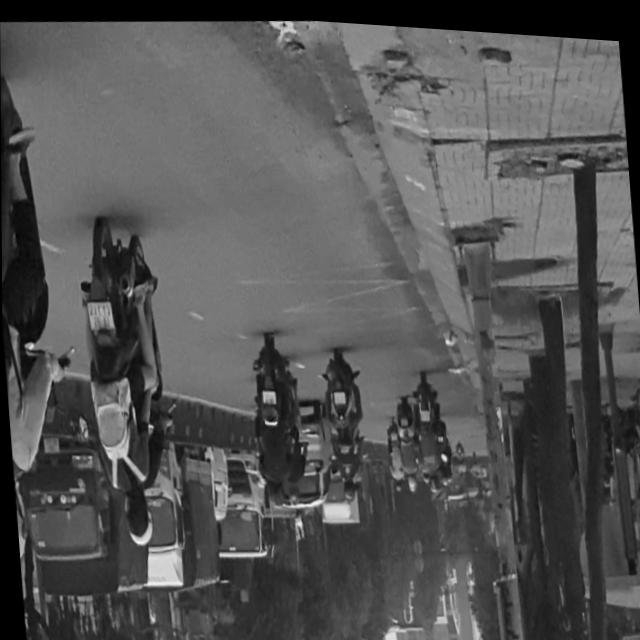helmet: (13, 484, 29, 572)
licenseplate: (0, 19, 76, 575), (70, 211, 179, 552)
motorcyclist: (118, 477, 148, 537)
nohelmet: (86, 301, 112, 332)
